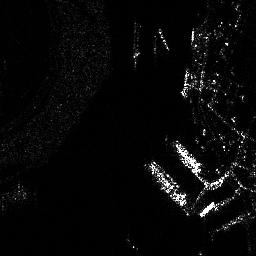ship: (147, 160, 187, 203), (172, 140, 201, 173)
